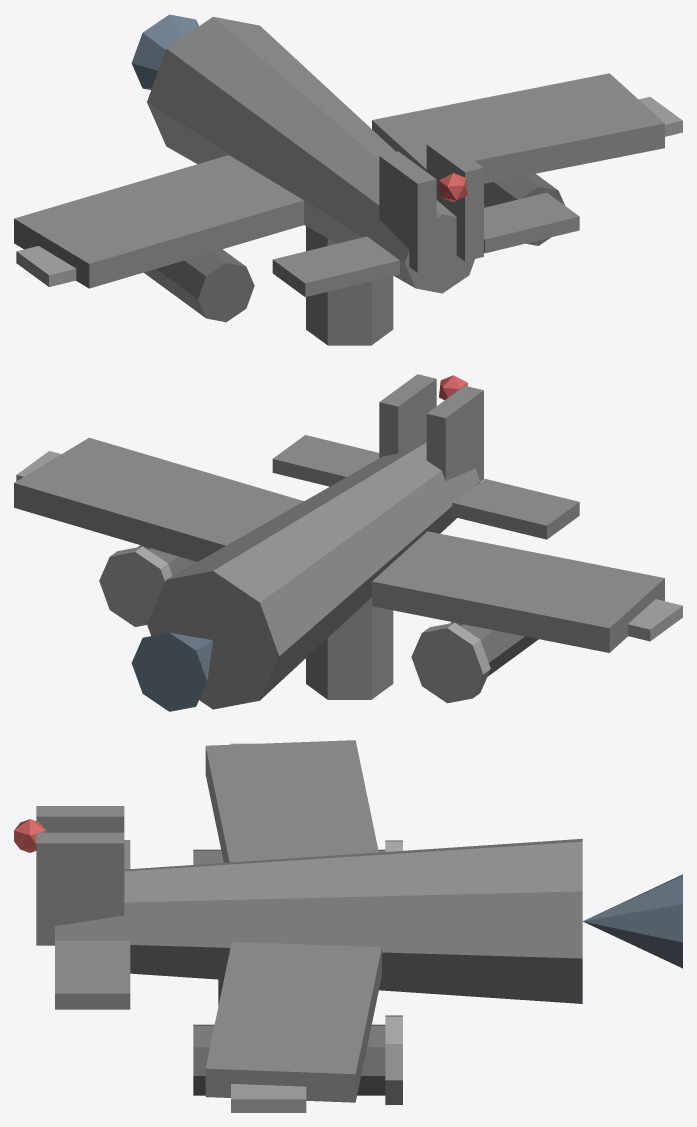
Rendered from unit_bomber.glb.
3 views of the same model, one above another, from view 1: azimuth 30°, elevation 25°; view 2: azimuth 150°, elevation 25°; view 3: azimuth 270°, elevation 25° (orthographic). The views are drawn at different scales.
Parts seen in each view (by area): view 1: unit_bomber; view 2: unit_bomber; view 3: unit_bomber.
Part boxes in pixels (x1,y1,x2,y2): unit_bomber: (14, 14, 682, 345); unit_bomber: (14, 374, 682, 711); unit_bomber: (14, 740, 682, 1112).
Size of the model in its own units: 0.67 by 0.235 by 0.5328.
